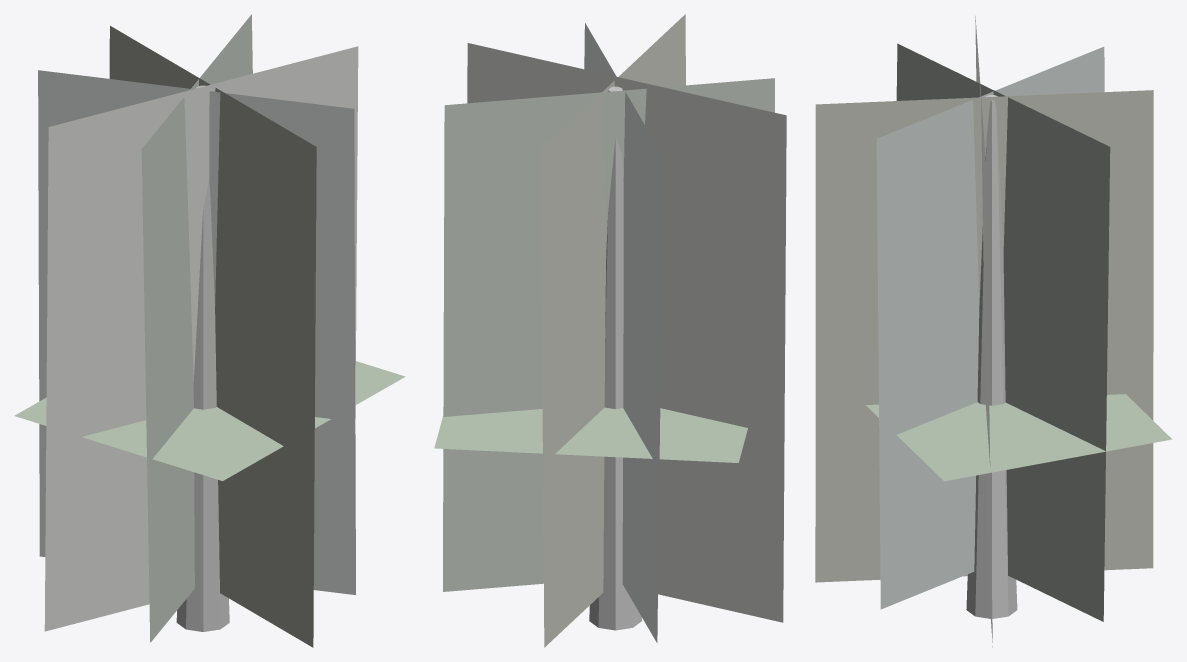
File: conifer-v1.glb
3 renders of one model, left to right at view 1: azimuth 30°, elevation 25°; view 2: azimuth 150°, elevation 25°; view 3: azimuth 270°, elevation 25°, orthographic. The views are drawn at different scales.
Parts seen in each view (by area): view 1: conifer-v1.lod0; view 2: conifer-v1.lod0; view 3: conifer-v1.lod0.
Boxes of the visible parts, left/top/right/bottom form: conifer-v1.lod0: left=14, top=14, right=405, bottom=647; conifer-v1.lod0: left=434, top=14, right=786, bottom=647; conifer-v1.lod0: left=815, top=16, right=1172, bottom=647.
Size of the model in its own units: 7.01 by 10.6 by 6.63.
